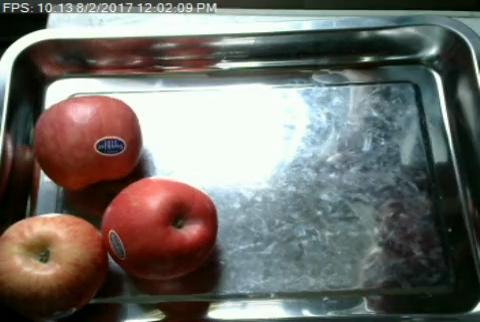apple: (100, 178, 217, 280), (0, 214, 105, 319), (34, 94, 139, 187)
